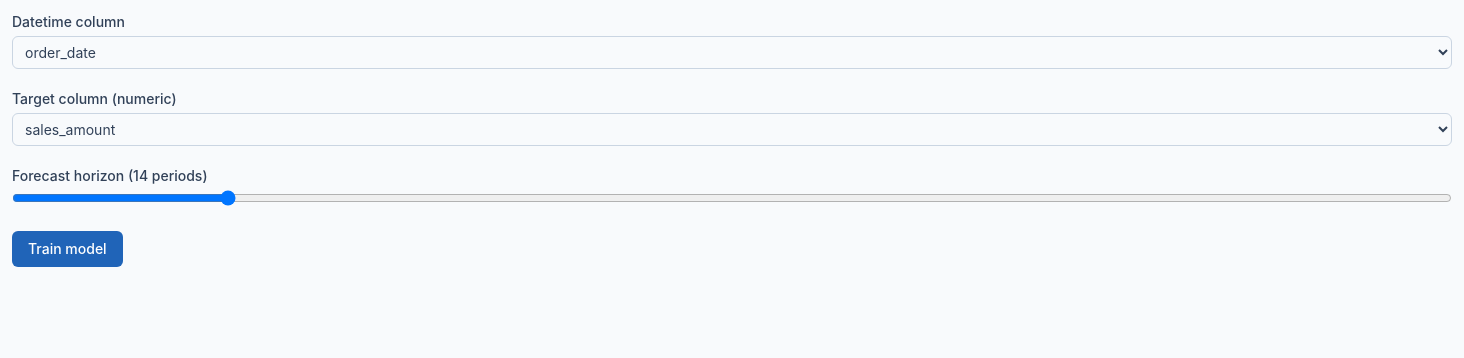
ForecastConfigForm › shows the real backend error when training fails
The image size is (1464, 358).
Click the button "Train model" at (67, 249), box [12,231,123,267]
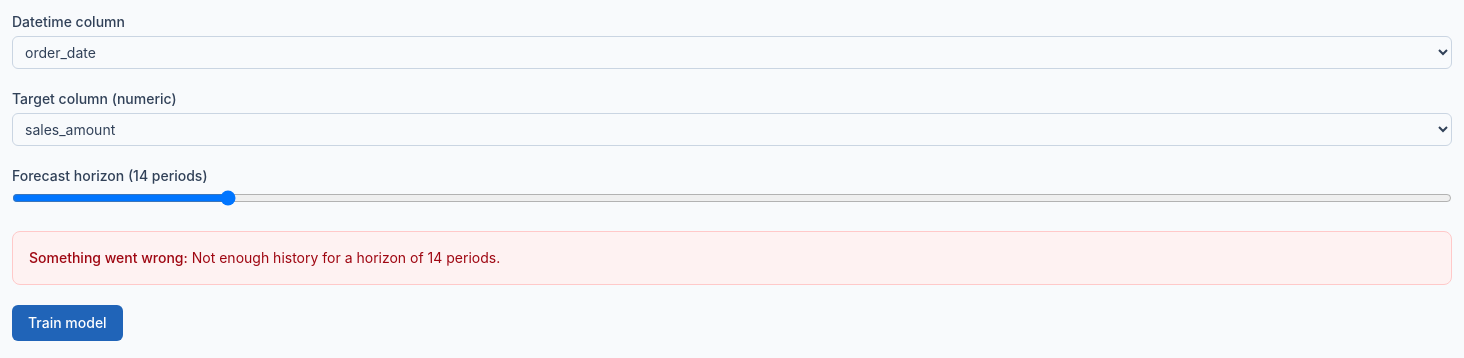
Result: the text "Not enough history" is shown at [192,249,500,266]
